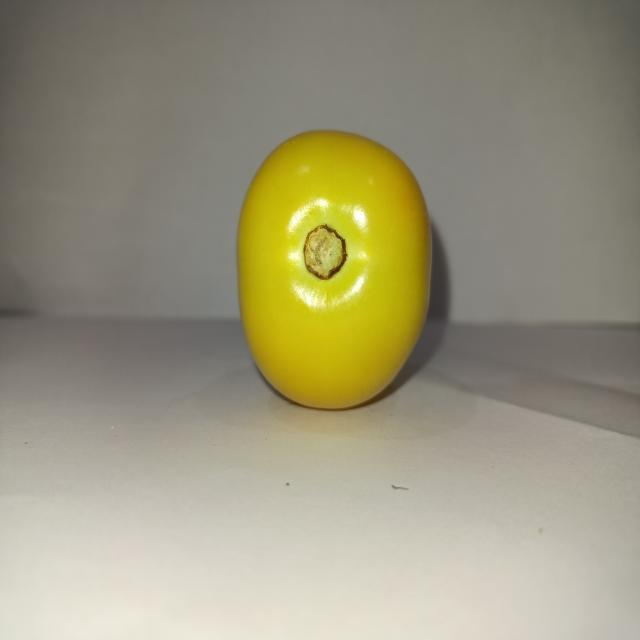Red: (235, 128, 433, 411)
